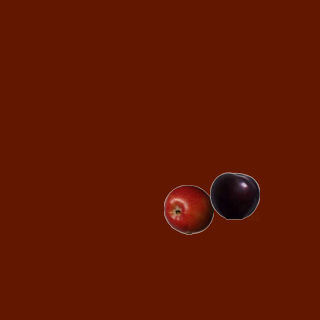Apple Braeburn: (163, 184, 213, 234)
Cherry Wax Black: (209, 170, 259, 220)
